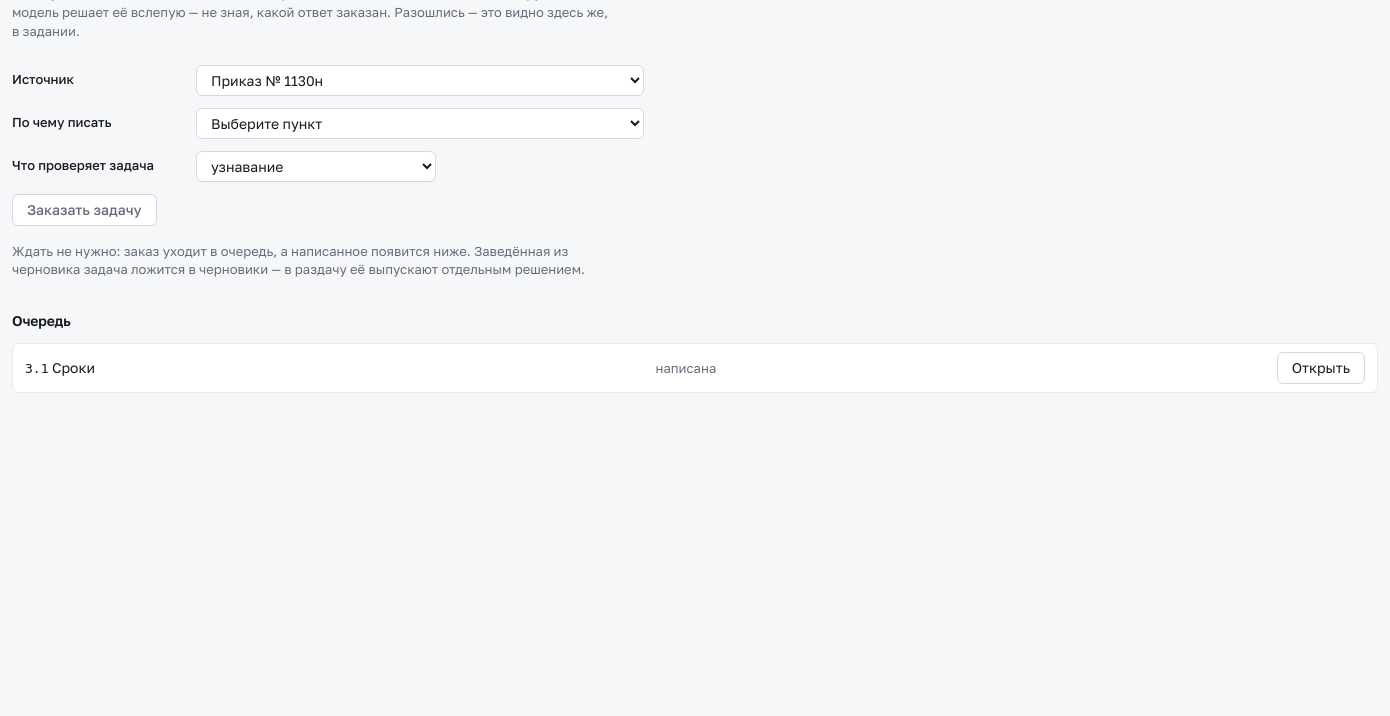
слепая сверка и повтор › несогласие сверки показывается тревогой, а не тонет в подсказке
Click the button "Открыть" at (1321, 368), box [1277, 352, 1365, 384]
(page scrolled)
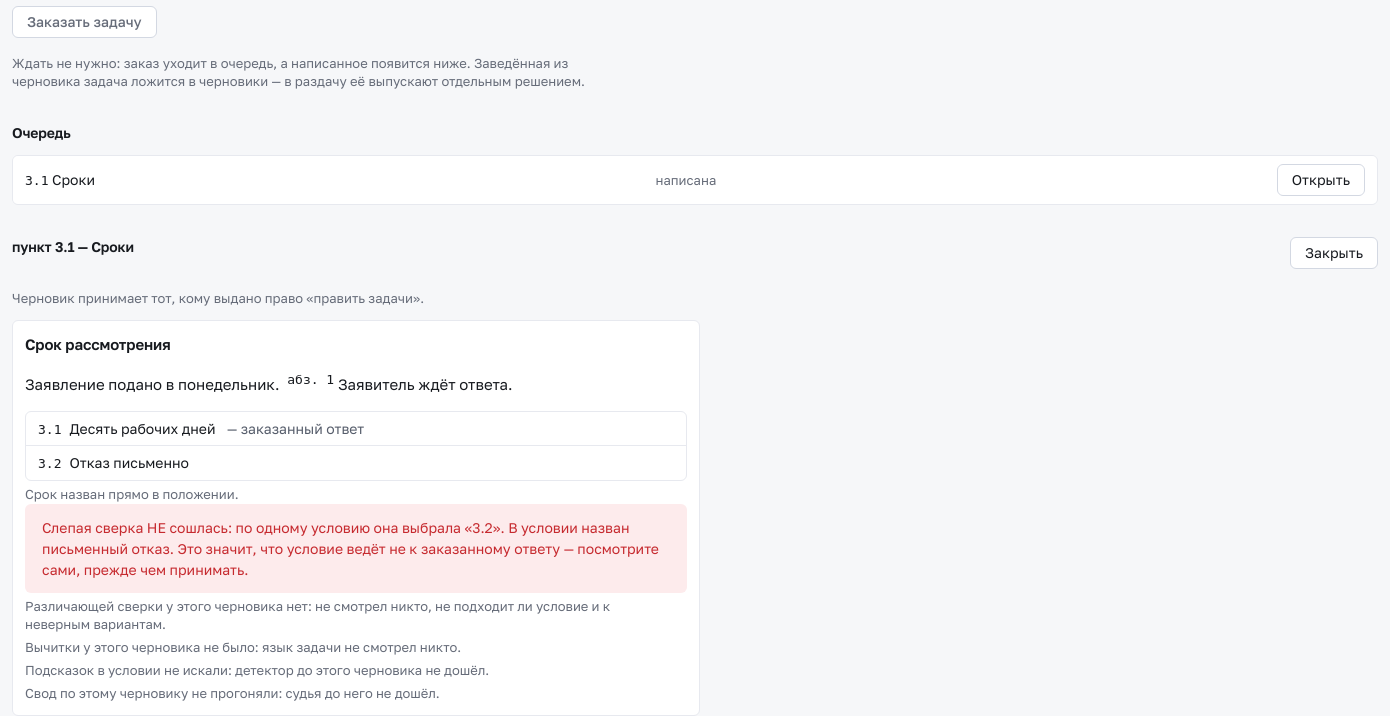
Expected: the text "Слепая сверка НЕ сошлась" shows "3.2", [472, 518, 493, 536]
Expected: the text "Слепая сверка НЕ сошлась" shows "письменный отказ", [42, 518, 633, 556]
